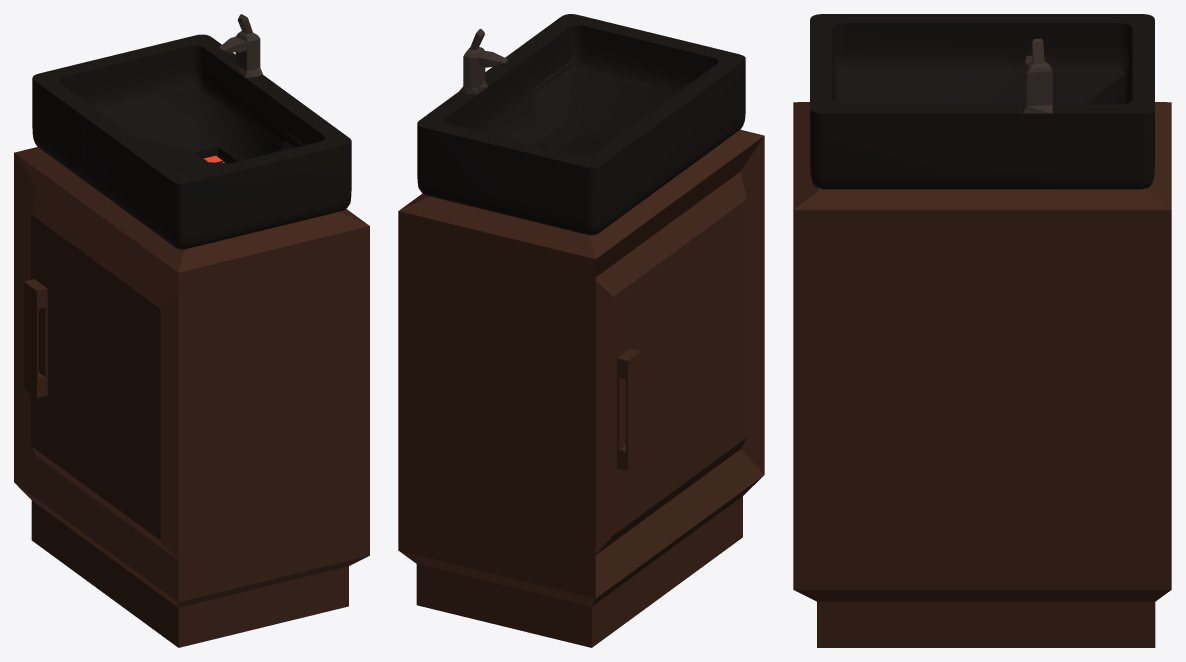
Rendered from Large Sink.fbx.
3 views of the same model, side by side, from view 1: azimuth 30°, elevation 25°; view 2: azimuth 150°, elevation 25°; view 3: azimuth 270°, elevation 25° (orthographic). The views are drawn at different scales.
Visible parts, largest first — view 1: Left Cabnit Sink002; view 2: Left Cabnit Sink002; view 3: Left Cabnit Sink002.
Part boxes in pixels (x1,y1,x2,y2): Left Cabnit Sink002: (14, 14, 369, 647); Left Cabnit Sink002: (398, 14, 764, 647); Left Cabnit Sink002: (793, 14, 1171, 647).
Bounding box in the file's own units: 33.47 × 82.75 × 46.99.
